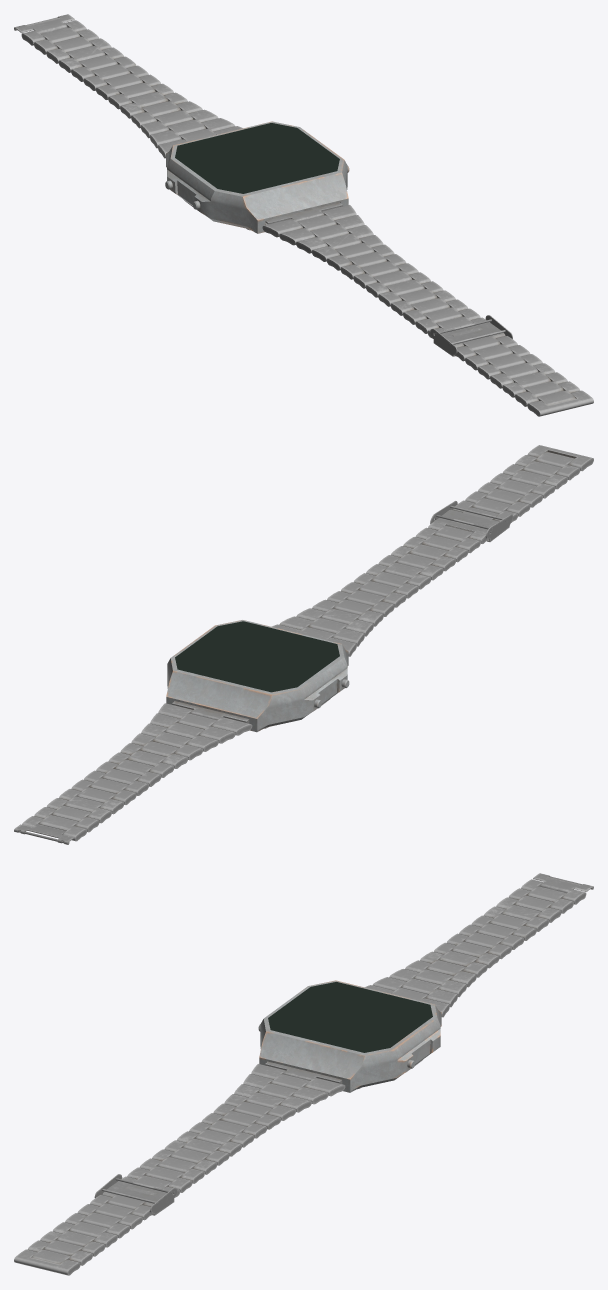
Rendered from watch.glb.
3 views of the same model, one above another, from view 1: azimuth 30°, elevation 25°; view 2: azimuth 150°, elevation 25°; view 3: azimuth 330°, elevation 25° (orthographic).
Parts seen in each view (by area): view 1: digital_wrist_watch_strap_b, digital_wrist_watch_strap_a, custom_face, case, digital_wrist_watch_clasp; view 2: digital_wrist_watch_strap_b, digital_wrist_watch_strap_a, custom_face, case, digital_wrist_watch_clasp; view 3: digital_wrist_watch_strap_b, digital_wrist_watch_strap_a, custom_face, case, digital_wrist_watch_clasp.
Boxes of the visible parts, x1,y1,x2,y2 form: digital_wrist_watch_strap_b: [262, 202, 593, 416]; digital_wrist_watch_strap_a: [21, 20, 242, 158]; custom_face: [175, 123, 339, 193]; case: [166, 121, 348, 233]; digital_wrist_watch_clasp: [14, 14, 74, 33]; digital_wrist_watch_strap_b: [271, 445, 593, 656]; digital_wrist_watch_strap_a: [22, 701, 252, 841]; custom_face: [175, 621, 339, 692]; case: [166, 620, 348, 732]; digital_wrist_watch_clasp: [14, 824, 74, 844]; digital_wrist_watch_strap_b: [14, 1061, 345, 1275]; digital_wrist_watch_strap_a: [365, 879, 586, 1017]; custom_face: [268, 982, 432, 1052]; case: [259, 980, 441, 1092]; digital_wrist_watch_clasp: [533, 873, 593, 892].
Bounding box in the file's own units: 0.0365 × 0.0085 × 0.2172.
Materials: 2 (1 with a texture image).
